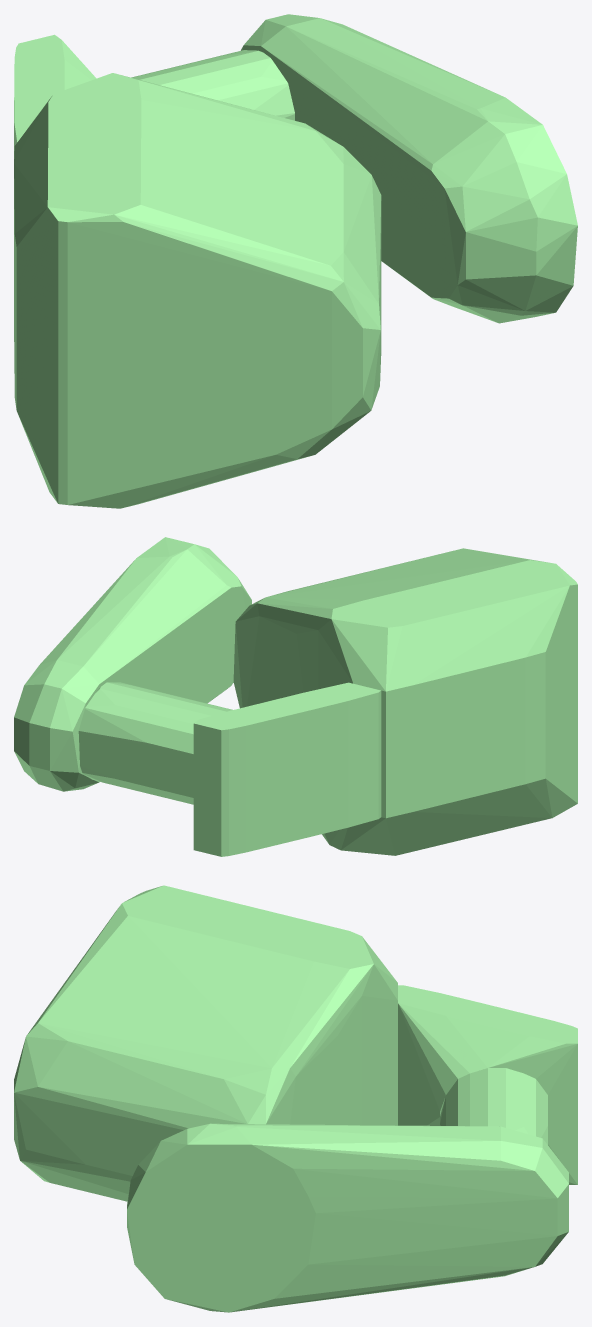
File: dvkr_robot_C_link4_respondable_and_L0_respondable_ECM_coll_1.dae
3 views of the same model, one above another, from view 1: azimuth 30°, elevation 25°; view 2: azimuth 150°, elevation 25°; view 3: azimuth 270°, elevation 25° (orthographic). The views are drawn at different scales.
Parts seen in each view (by area): view 1: Node_0000023514CD9BB0; view 2: Node_0000023514CD9BB0; view 3: Node_0000023514CD9BB0.
Part boxes in pixels (<box>): Node_0000023514CD9BB0: <box>14,14,577,508</box>; Node_0000023514CD9BB0: <box>14,537,577,856</box>; Node_0000023514CD9BB0: <box>14,885,577,1312</box>.
Size of the model in its own units: 0.2738 by 0.152 by 0.304.
